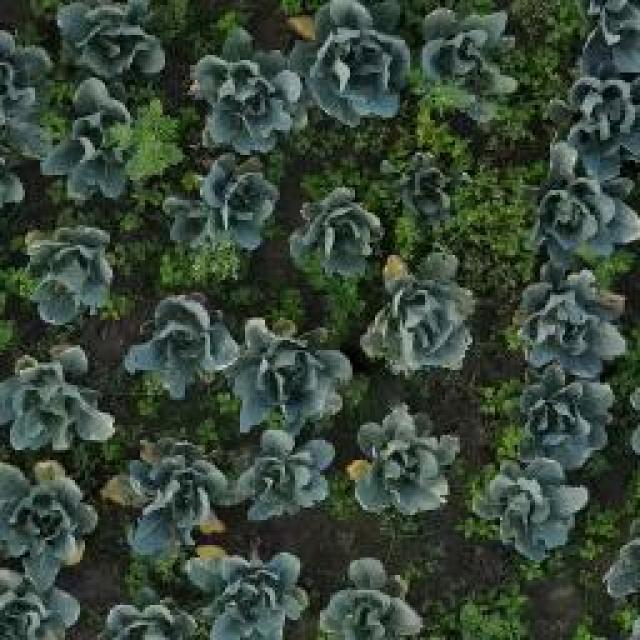cabbage: (106, 432, 234, 556), (460, 454, 595, 569), (40, 78, 164, 202), (226, 306, 350, 423), (0, 342, 125, 454), (360, 263, 482, 375), (347, 401, 460, 521), (504, 270, 628, 377), (300, 15, 410, 133), (116, 290, 242, 390), (184, 543, 310, 640), (0, 458, 100, 578), (10, 227, 130, 327), (490, 373, 623, 463), (191, 46, 303, 151), (420, 2, 533, 104), (231, 421, 337, 526), (36, 0, 180, 75), (521, 188, 637, 279), (171, 155, 279, 250), (543, 81, 640, 179), (286, 184, 384, 277), (323, 552, 425, 640), (567, 0, 640, 76), (399, 147, 463, 216)
